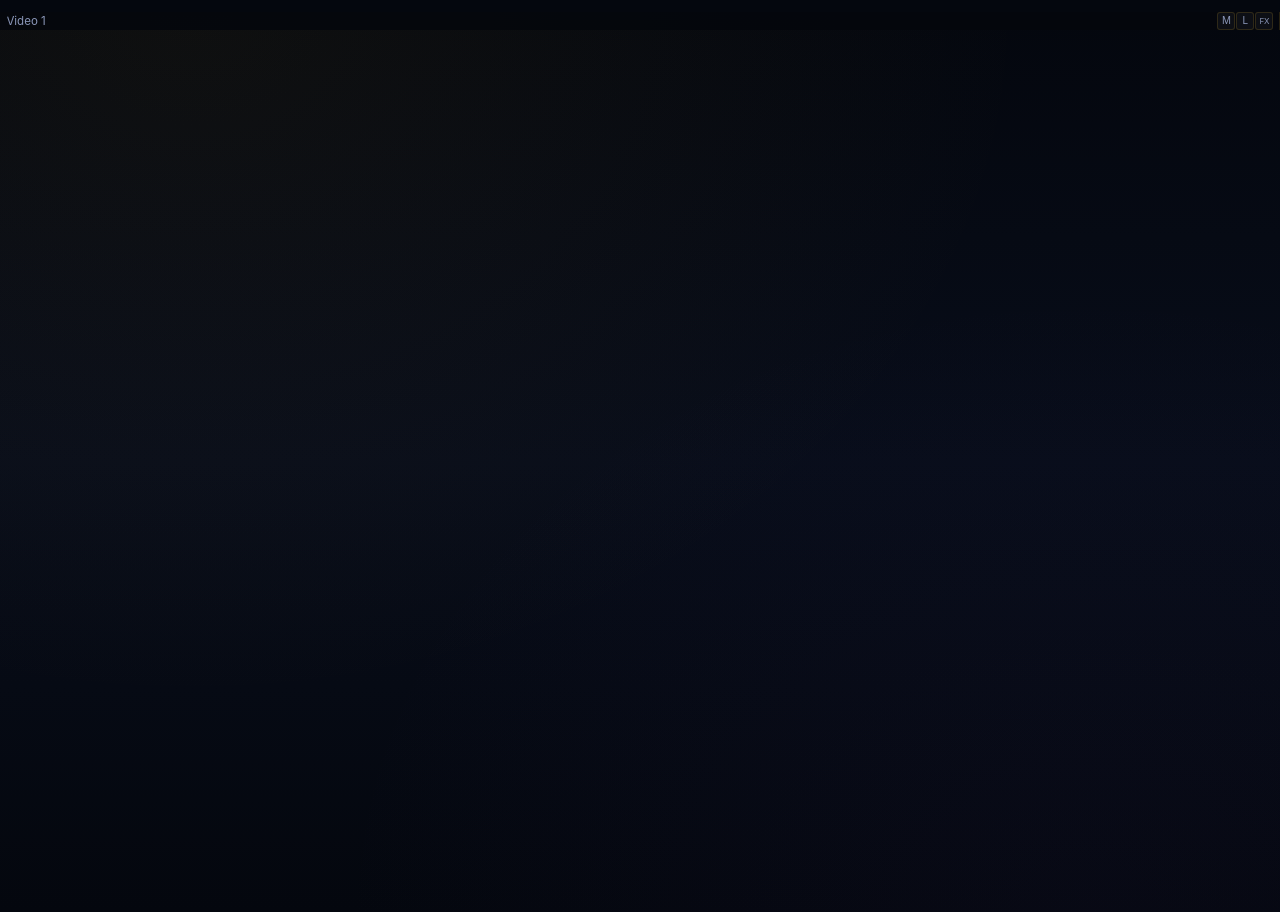
TrackLaneHeader › L toggles the lane lock flag in the store
This screenshot has width=1280, height=912.
Click the button "L": coordinates (1245, 21) [1236,12,1254,30]
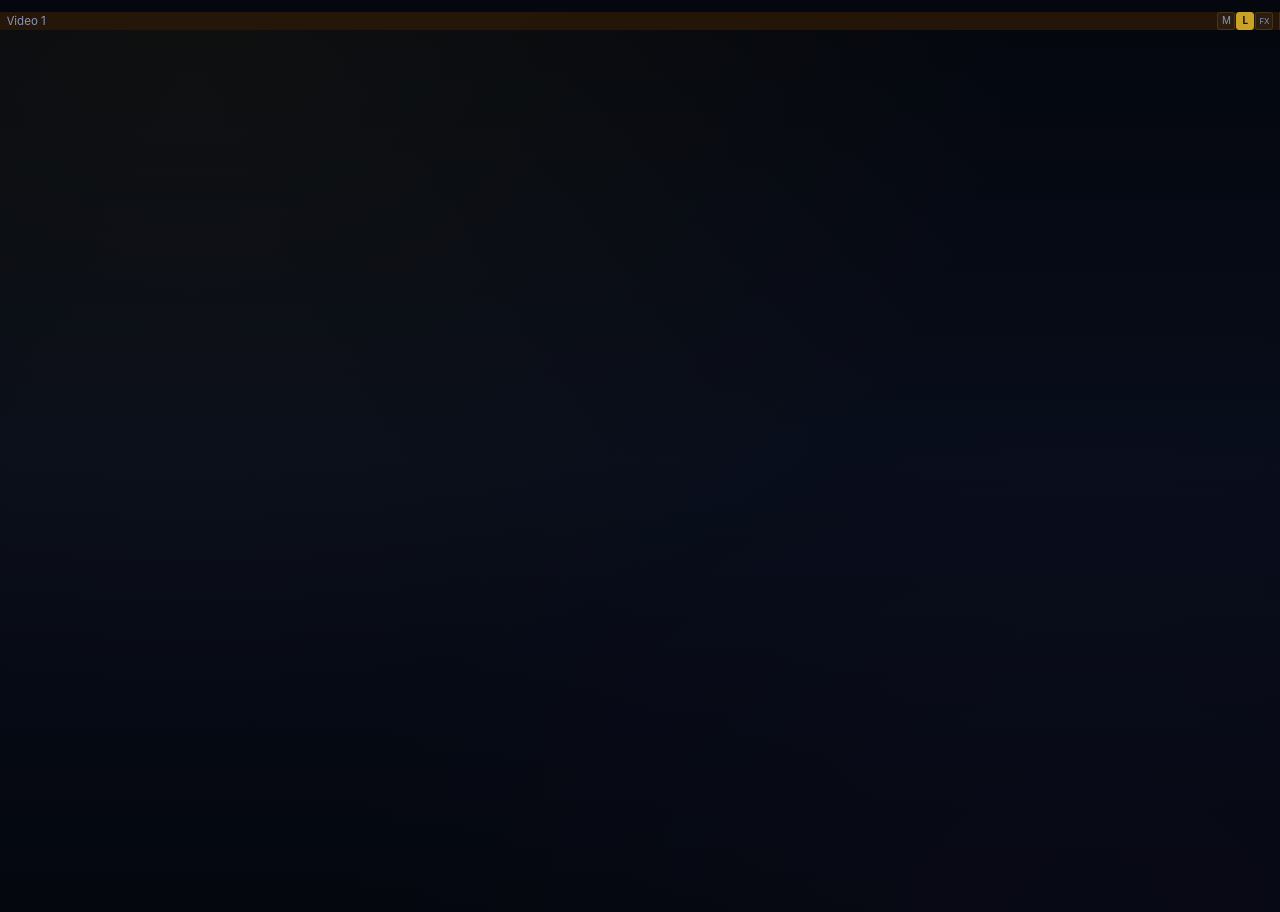
Result: the element with class "timeline-lane-header--locked" is shown at [0,12,1279,30]
